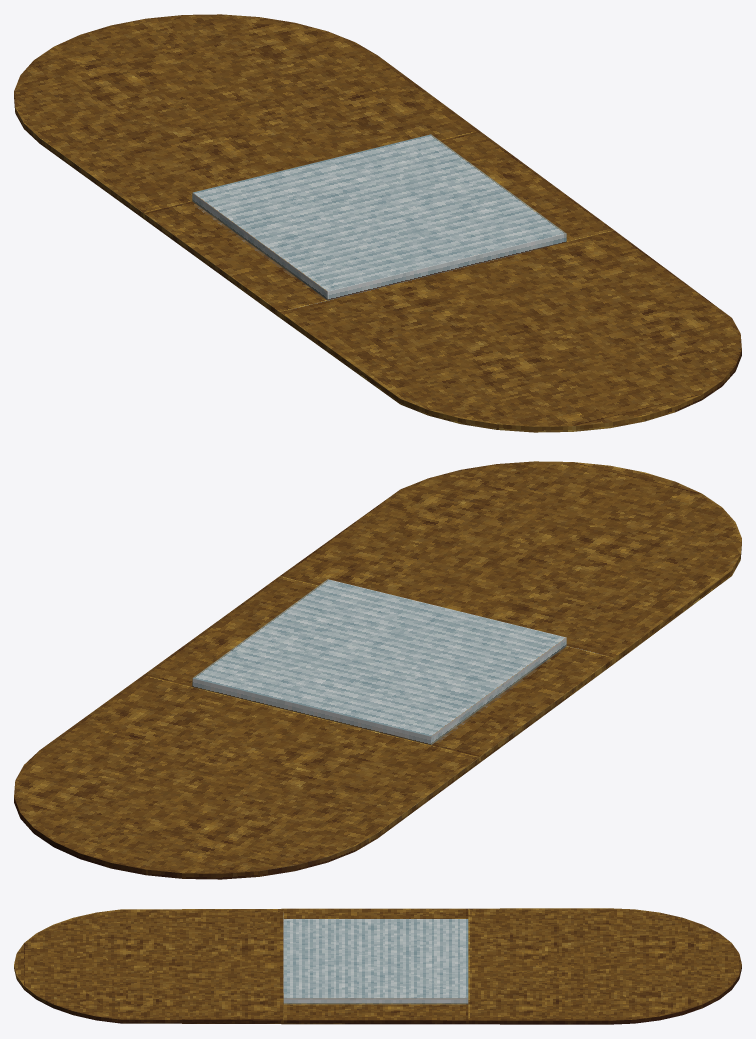
File: band_aid2.glb
3 views of the same model, one above another, from view 1: azimuth 30°, elevation 25°; view 2: azimuth 150°, elevation 25°; view 3: azimuth 270°, elevation 25° (orthographic). The views are drawn at different scales.
Visible parts, largest first — view 1: mesh; view 2: mesh; view 3: mesh.
Boxes of the visible parts, left/top/right/bottom form: mesh: left=14, top=14, right=741, bottom=432; mesh: left=14, top=461, right=741, bottom=879; mesh: left=14, top=908, right=741, bottom=1024.
Bounding box in the file's own units: 0.2461 × 0.01 × 0.6726.
Materials: 1 (1 with a texture image).
